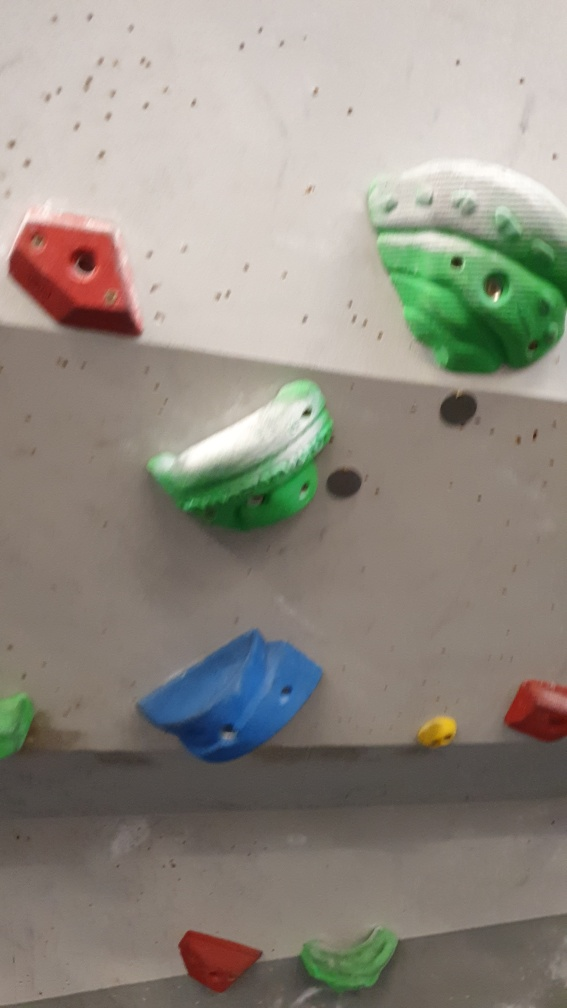Crimp: (6, 200, 156, 345), (500, 669, 567, 748)
Hand Start: (436, 386, 489, 430), (323, 455, 368, 506)
Jug: (356, 160, 567, 384), (138, 374, 334, 535), (297, 919, 403, 990)
Pinch: (134, 621, 321, 777)
